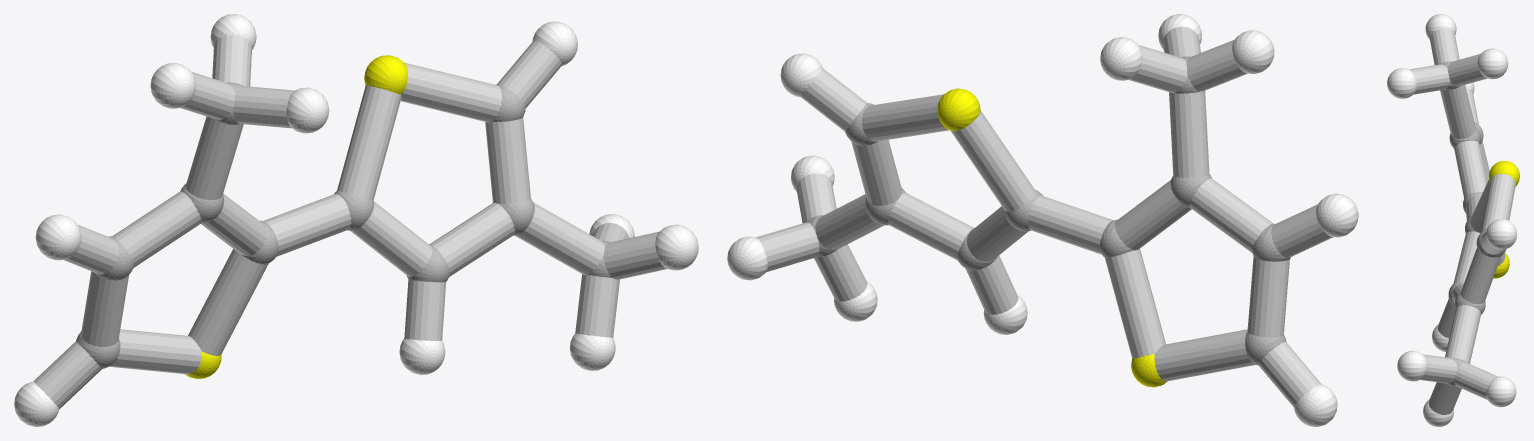
The model's file is color.glb.
The picture shows the model from 3 angles, left to right: view 1: azimuth 30°, elevation 25°; view 2: azimuth 150°, elevation 25°; view 3: azimuth 270°, elevation 25°; orthographic projection. The views are drawn at different scales.
Parts seen in each view (by area): view 1: grp7965, grp3621, grp1, grp7241; view 2: grp7965, grp3621, grp1, grp7241; view 3: grp7965, grp3621, grp1, grp7241.
Boxes of the visible parts, x1,y1,x2,y2 form: grp7965: (33,35,666,408); grp3621: (14,14,698,426); grp1: (76,82,611,368); grp7241: (185,55,407,378); grp7965: (756,26,1333,406); grp3621: (727,14,1358,426); grp1: (807,56,1290,365); grp7241: (937,88,1167,387); grp7965: (1409,28,1515,414); grp3621: (1387,14,1516,426); grp1: (1440,61,1506,386); grp7241: (1489,161,1519,278).
Size of the model in its own units: 9.4 by 5.82 by 2.57.
